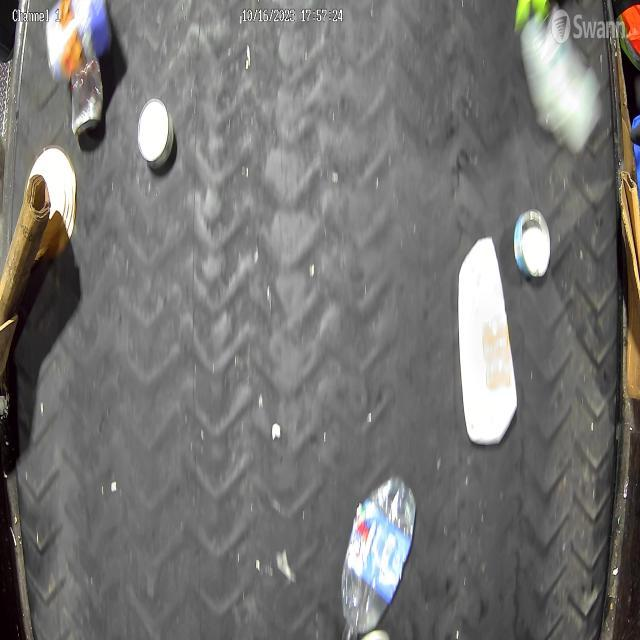can: (70, 53, 104, 137), (514, 208, 550, 280), (137, 99, 174, 168)
